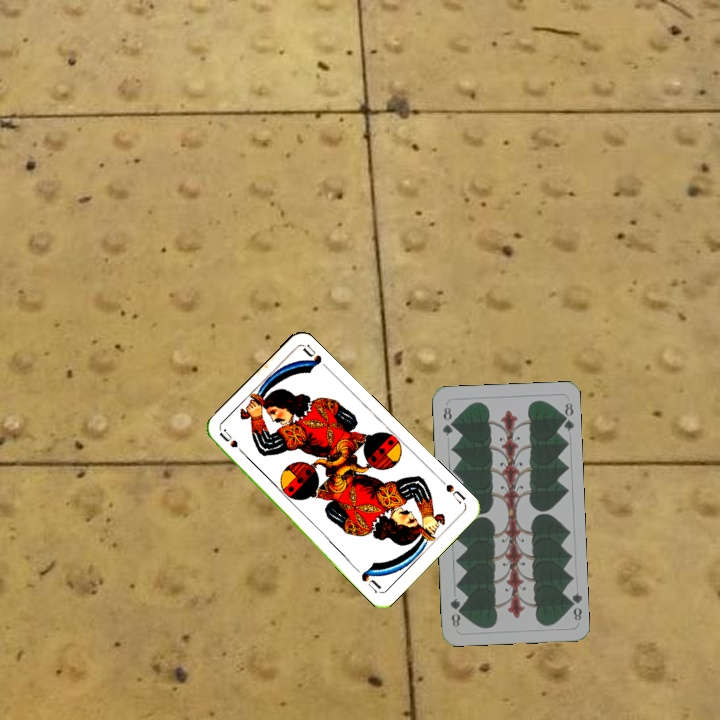G8: (564, 588, 584, 623), (438, 403, 456, 438)
SU: (215, 426, 250, 460), (442, 480, 468, 506)
